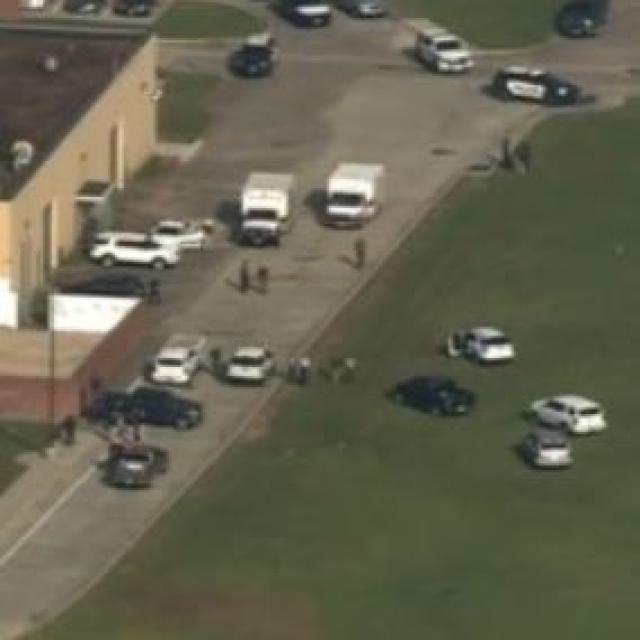traffic_incident: (63, 383, 207, 492)
